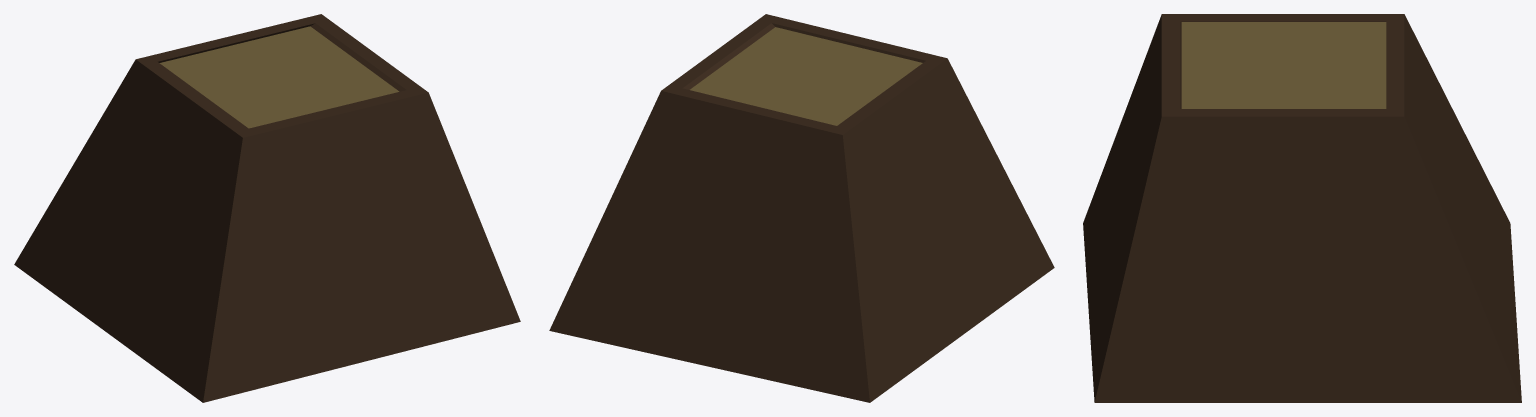
The model's file is TreeTrunk.fbx.
The picture shows the model from 3 angles, left to right: view 1: azimuth 30°, elevation 25°; view 2: azimuth 150°, elevation 25°; view 3: azimuth 270°, elevation 25°; orthographic projection. The views are drawn at different scales.
Parts seen in each view (by area): view 1: Cube; view 2: Cube; view 3: Cube.
Part boxes in pixels (<box>): Cube: <box>14,14,520,402</box>; Cube: <box>549,14,1054,402</box>; Cube: <box>1083,14,1521,402</box>.
Bounding box in the file's own units: 104 × 68.25 × 108.
